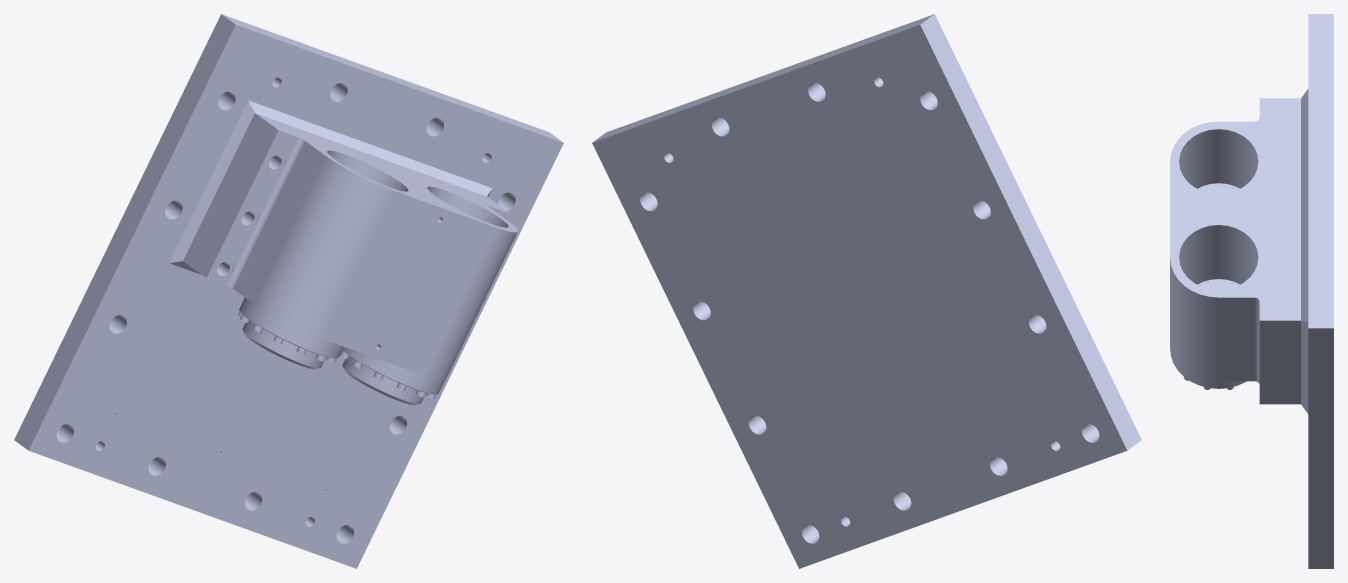
File: Anchor.fbx
The picture shows the model from 3 angles, left to right: view 1: azimuth 30°, elevation 25°; view 2: azimuth 150°, elevation 25°; view 3: azimuth 270°, elevation 25°; orthographic projection. The views are drawn at different scales.
Visible parts, largest first — view 1: 03-21-1320-PDM-Base Plate.stp, 3-134056_CARDAN_STEUN.stp, 03-21-1320-PDM-Midplate.stp, 3-134056_CARDANHUIS_A_SW0002.stp, 3-134056_CARDANHUIS_A_SW0002.stp.001; view 2: 03-21-1320-PDM-Base Plate.stp; view 3: 3-134056_CARDAN_STEUN.stp, 03-21-1320-PDM-Base Plate.stp, 03-21-1320-PDM-Midplate.stp, 3-134056_CARDANHUIS_A_SW0002.stp.001, 3-134056_CARDANHUIS_A_SW0002.stp.
Boxes of the visible parts, left/top/right/bottom form: 03-21-1320-PDM-Base Plate.stp: left=14, top=14, right=563, bottom=568; 3-134056_CARDAN_STEUN.stp: left=193, top=120, right=517, bottom=380; 03-21-1320-PDM-Midplate.stp: left=169, top=100, right=496, bottom=274; 3-134056_CARDANHUIS_A_SW0002.stp: left=238, top=298, right=343, bottom=369; 3-134056_CARDANHUIS_A_SW0002.stp.001: left=340, top=347, right=444, bottom=405; 03-21-1320-PDM-Base Plate.stp: left=592, top=14, right=1141, bottom=568; 3-134056_CARDAN_STEUN.stp: left=1170, top=98, right=1282, bottom=404; 03-21-1320-PDM-Base Plate.stp: left=1308, top=14, right=1333, bottom=568; 03-21-1320-PDM-Midplate.stp: left=1282, top=89, right=1308, bottom=413; 3-134056_CARDANHUIS_A_SW0002.stp.001: left=1170, top=279, right=1246, bottom=389; 3-134056_CARDANHUIS_A_SW0002.stp: left=1197, top=183, right=1239, bottom=193.
Size of the model in its own units: 106 by 109 by 32.
